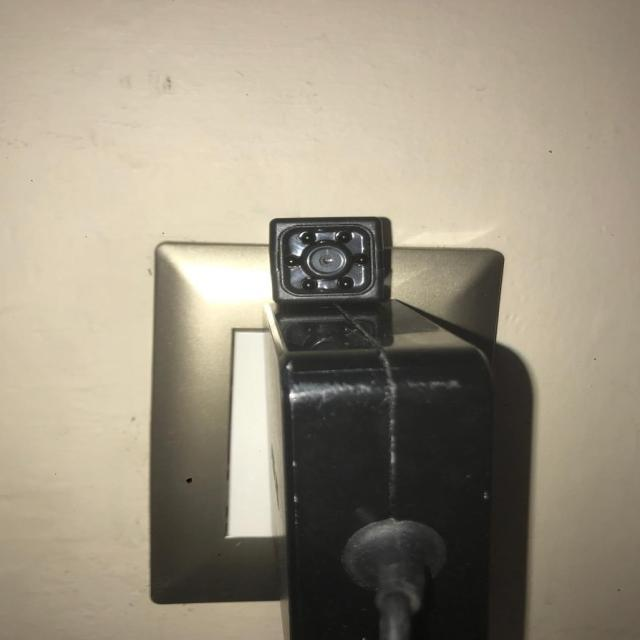hidden camera: (310, 247, 345, 274)
